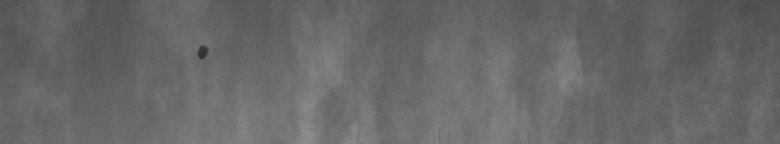fi: (192, 36, 213, 68)
